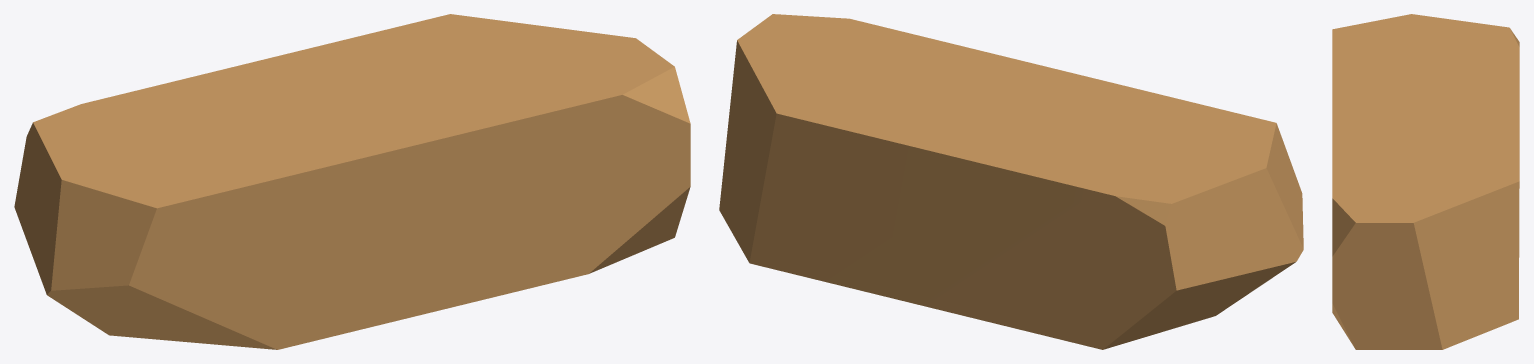
The model's file is egypt-stone-block.glb.
3 renders of one model, left to right at view 1: azimuth 30°, elevation 25°; view 2: azimuth 150°, elevation 25°; view 3: azimuth 270°, elevation 25°, orthographic. The views are drawn at different scales.
Visible parts, largest first — view 1: egypt-stone-block; view 2: egypt-stone-block; view 3: egypt-stone-block.
Part boxes in pixels (x1,y1,x2,y2): egypt-stone-block: [14, 14, 690, 349]; egypt-stone-block: [719, 14, 1303, 349]; egypt-stone-block: [1332, 14, 1519, 349].
Size of the model in its own units: 8.83 by 2.4 by 3.2.
1 material, 1 textured.
